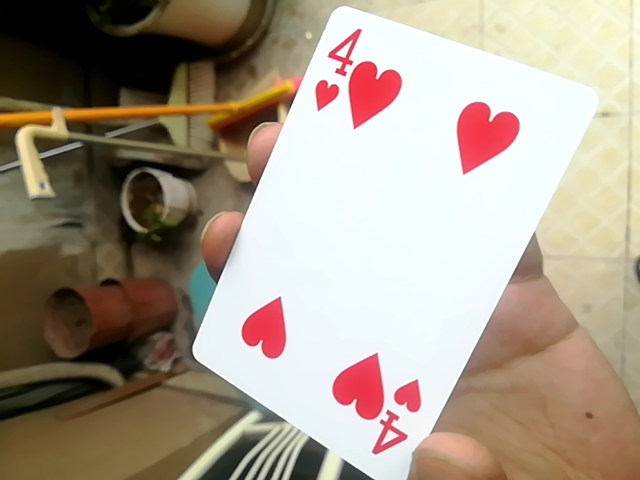hx 4: (179, 3, 610, 480)
